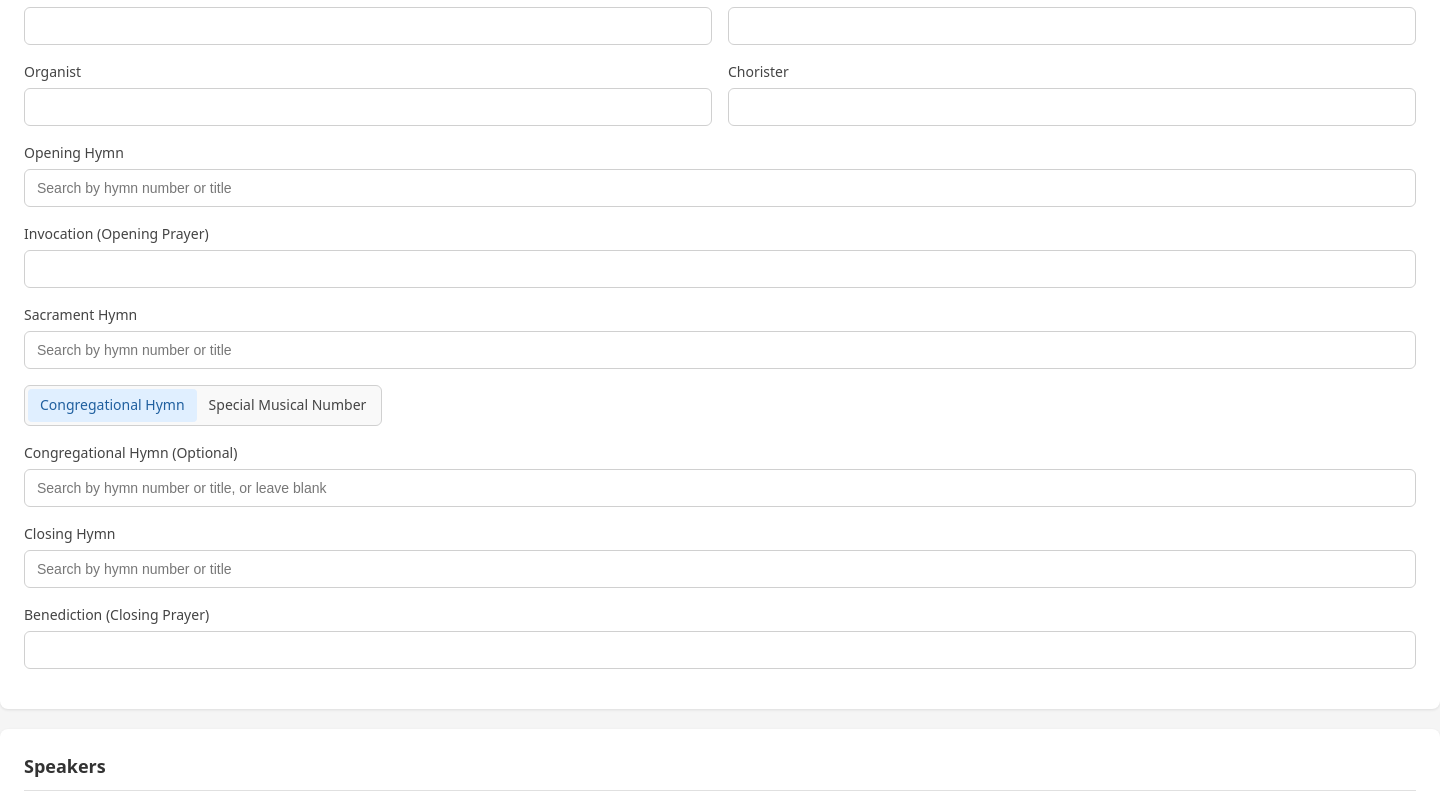
it: ProgramForm › switches between congregational hymn and special music without clearing hidden values
The image size is (1440, 810).
(page scrolled)
Click the button with class "segmented-button" showing "Special Musical Number".
click(288, 405)  # box x1=197 y1=389 x2=378 y2=422
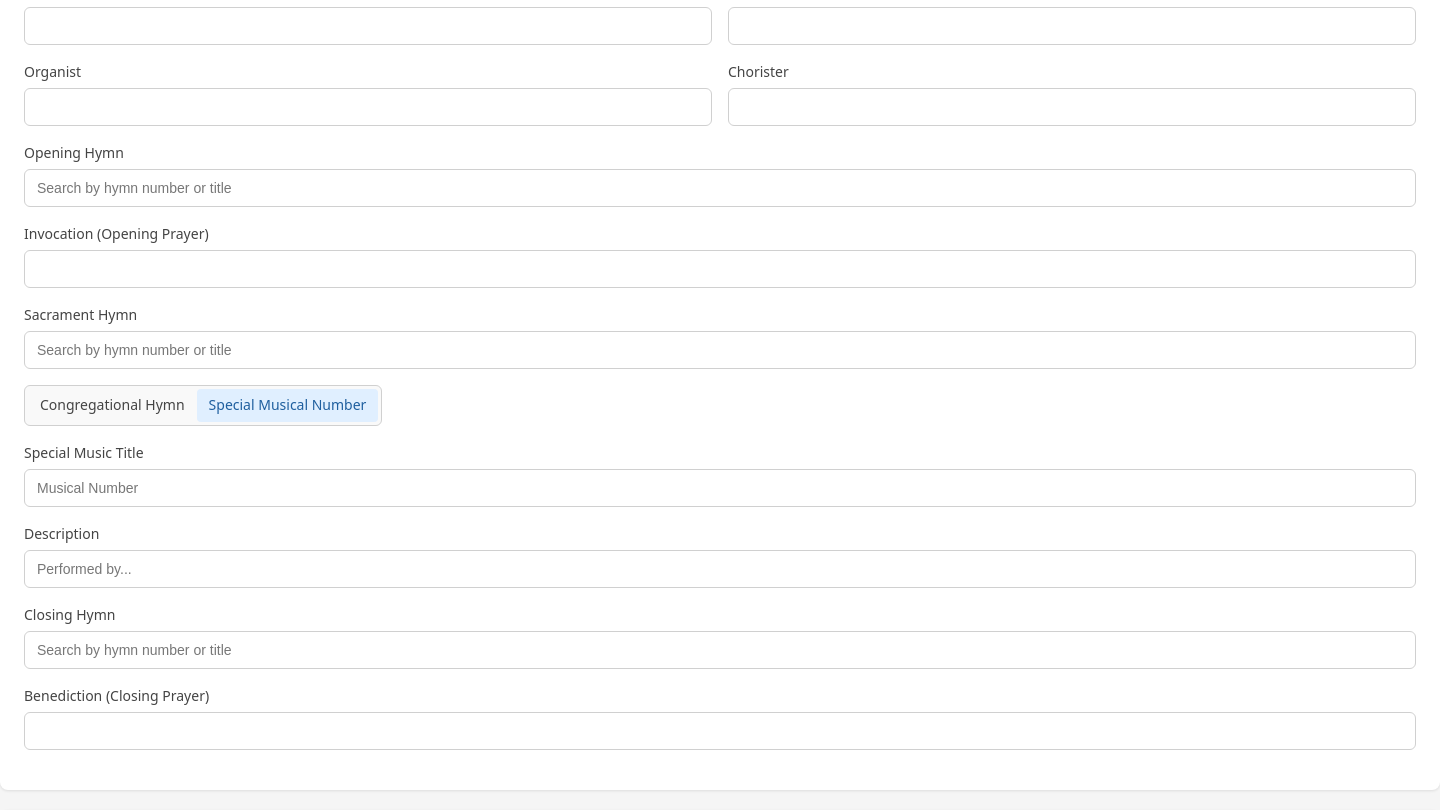
Check: the field with id "special-music-title" is shown
Check: the field with id "special-music-description" is shown, box x1=24 y1=550 x2=1416 y2=588
Type "Father's Day Musical Number" into the field with id "special-music-title".
click(720, 488); type("Father's Day Musical Number")  # box x1=24 y1=469 x2=1416 y2=507
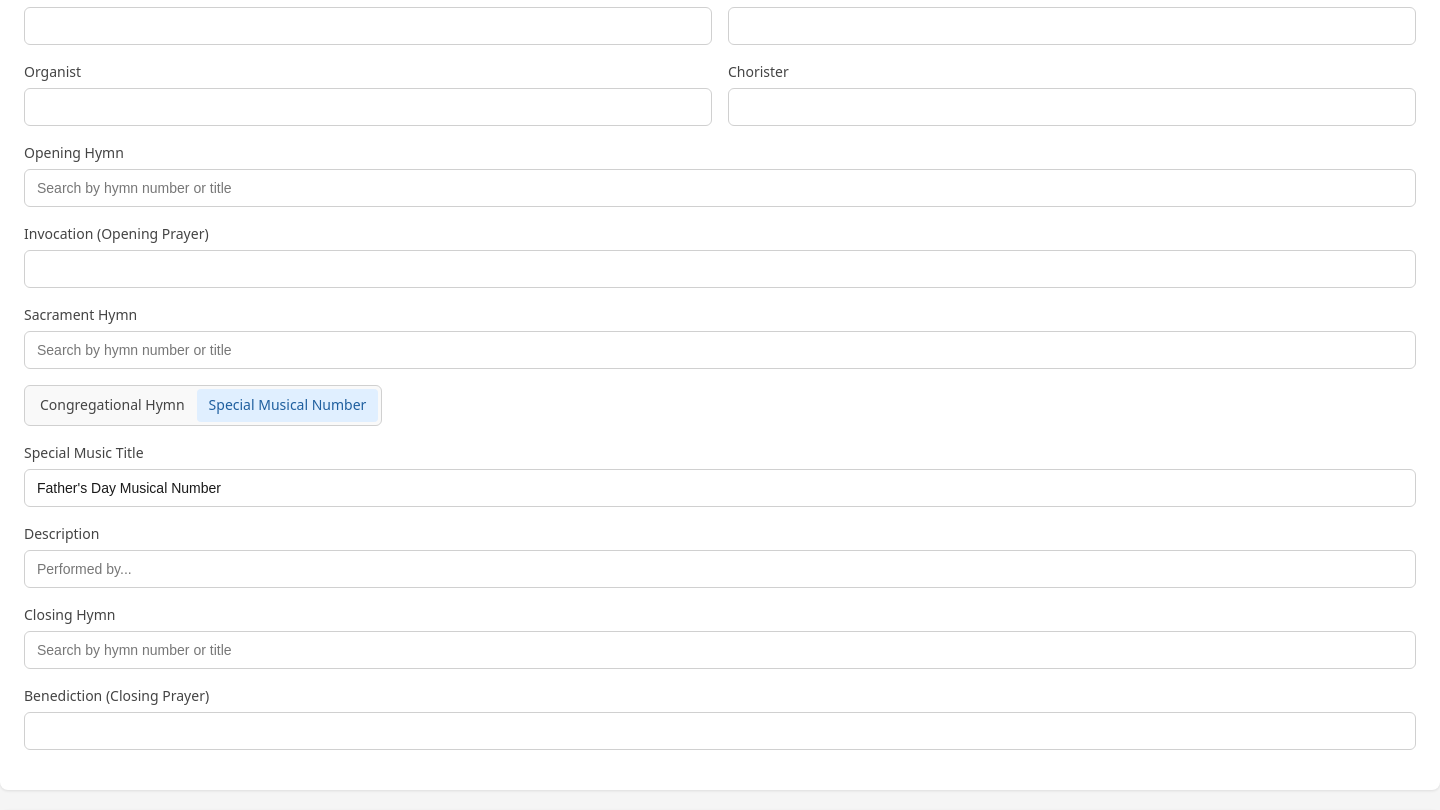
Type "Primary children singing" into the field with id "special-music-description".
click(720, 569); type("Primary children singing")  # box x1=24 y1=550 x2=1416 y2=588
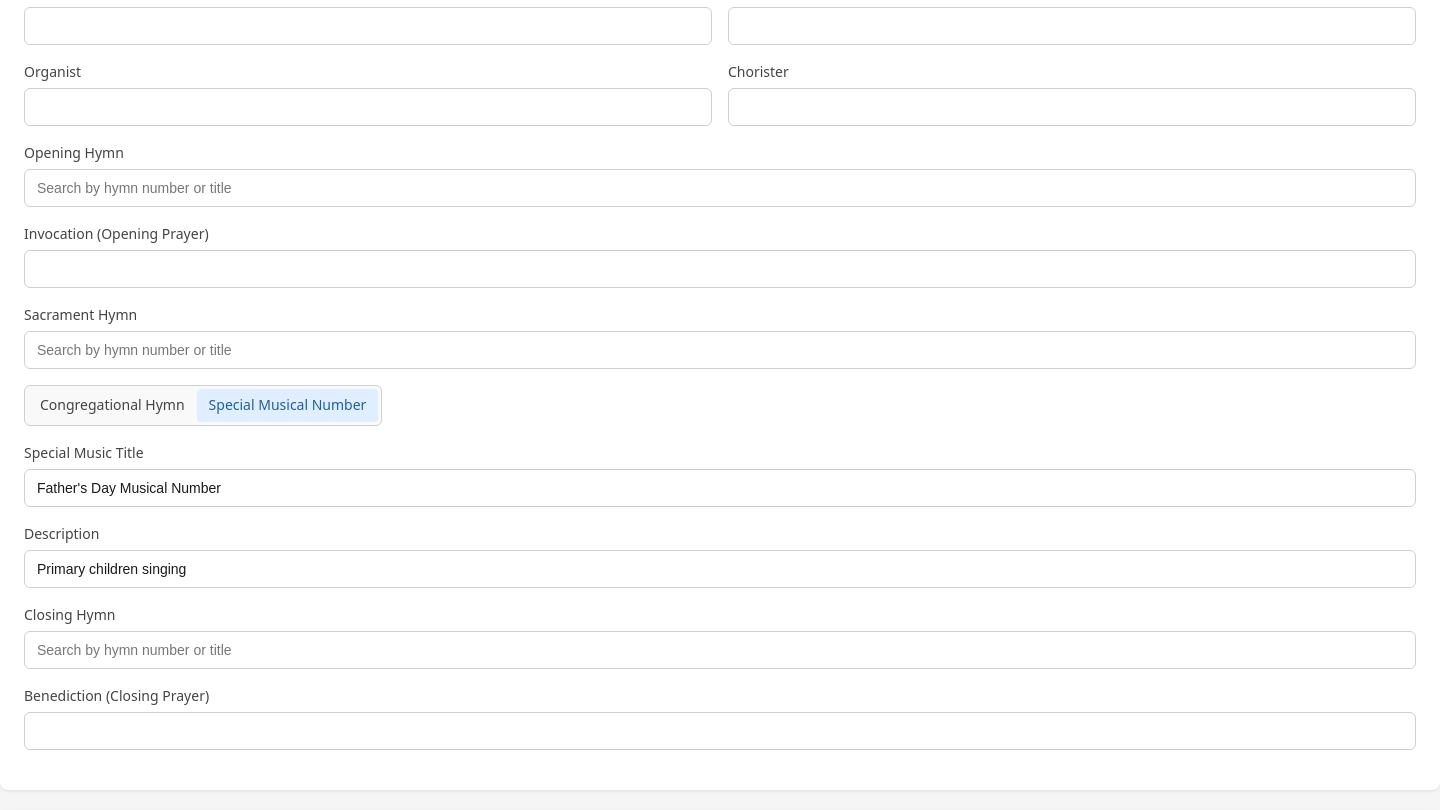
Click the button with class "segmented-button" showing "Congregational Hymn".
click(112, 405)  # box x1=28 y1=389 x2=197 y2=422
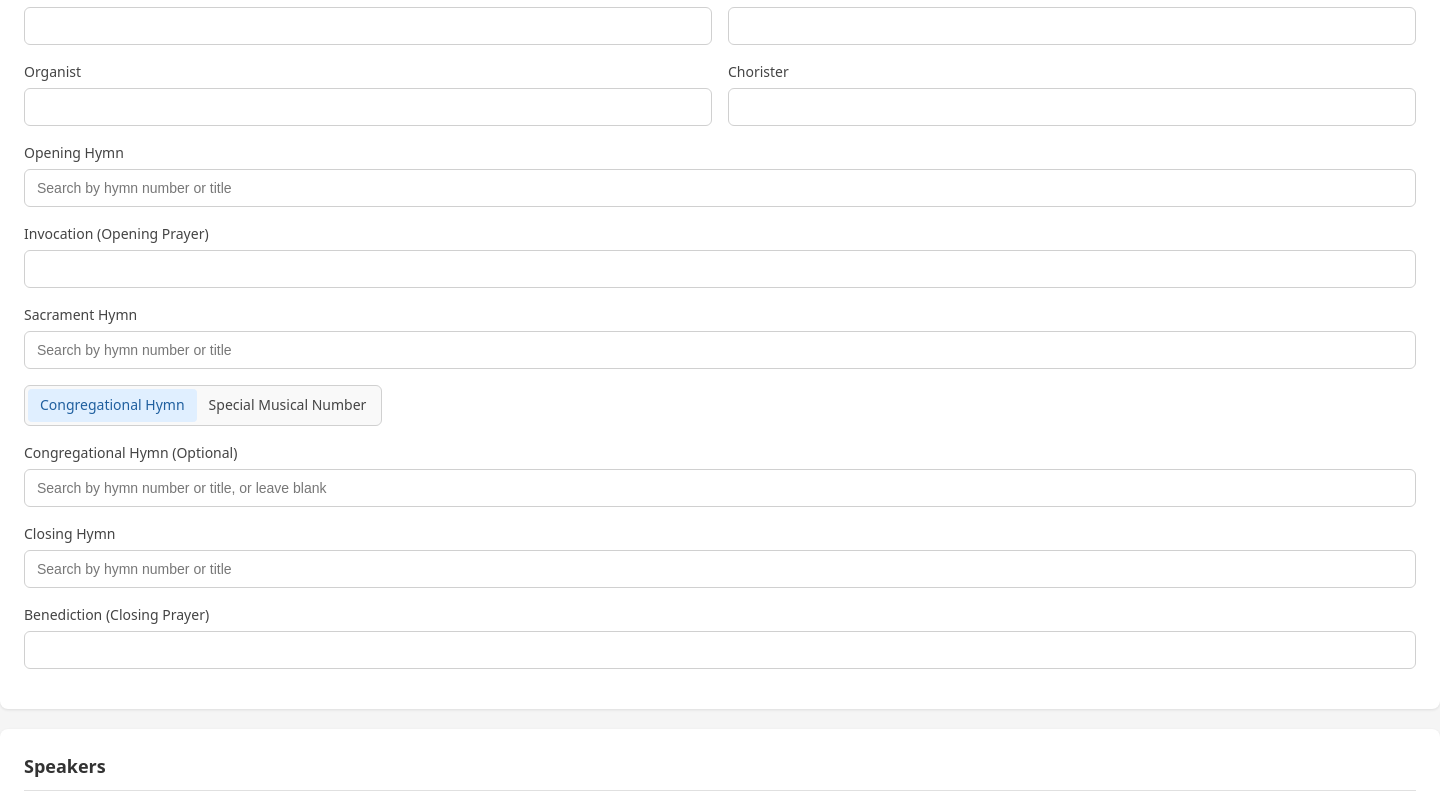
Check: the dropdown with id "congregational-hymn" is shown, box x1=24 y1=469 x2=1416 y2=507
